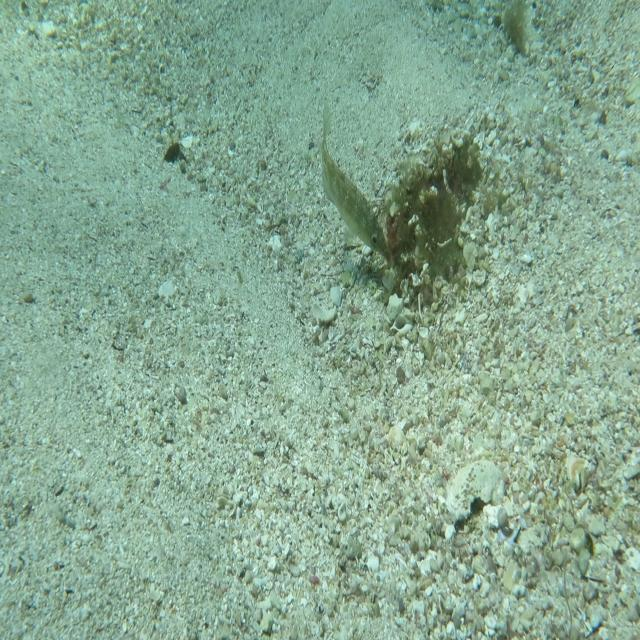AM: (319, 96, 389, 261)
core_nest: (444, 148, 478, 184)
nest: (378, 123, 494, 310)
nest_material: (382, 244, 395, 271)
vegetation: (502, 0, 534, 73), (164, 139, 183, 166)
